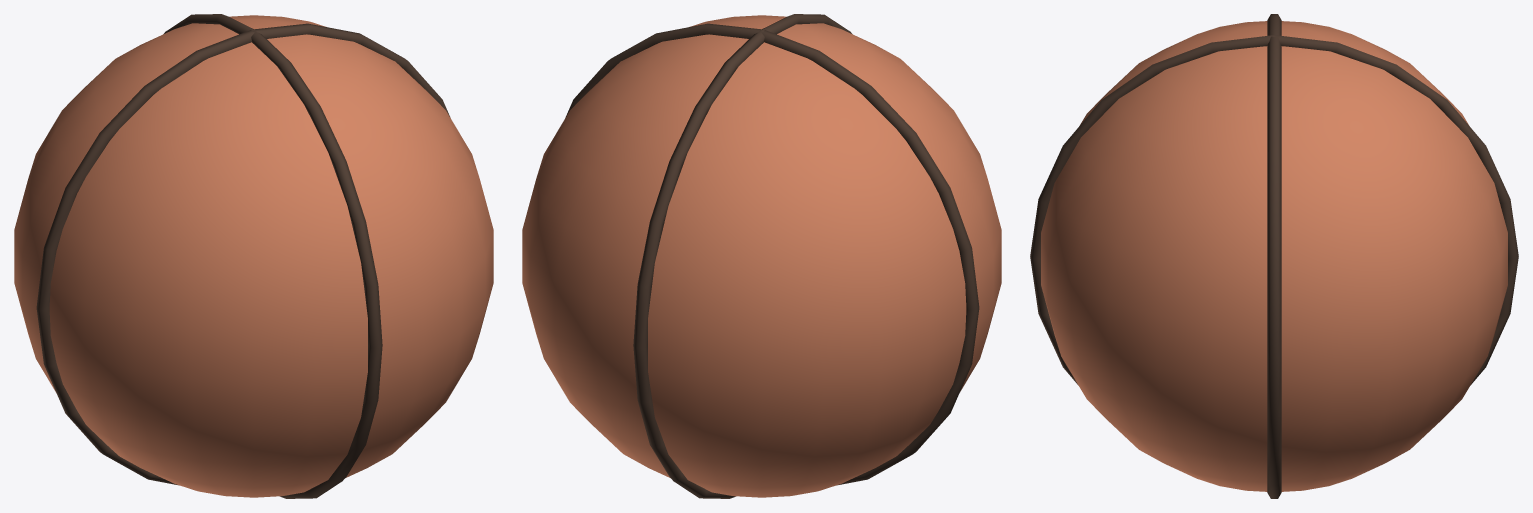
File: basketball.glb
3 views of the same model, side by side, from view 1: azimuth 30°, elevation 25°; view 2: azimuth 150°, elevation 25°; view 3: azimuth 270°, elevation 25° (orthographic). The views are drawn at different scales.
Parts seen in each view (by area): view 1: basketball_mesh; view 2: basketball_mesh; view 3: basketball_mesh.
Boxes of the visible parts, box(x1,y1,x2,y2) form: basketball_mesh: box(14, 14, 493, 498); basketball_mesh: box(522, 14, 1001, 498); basketball_mesh: box(1030, 14, 1518, 498).
Size of the model in its own units: 0.3505 by 0.3519 by 0.3519.
